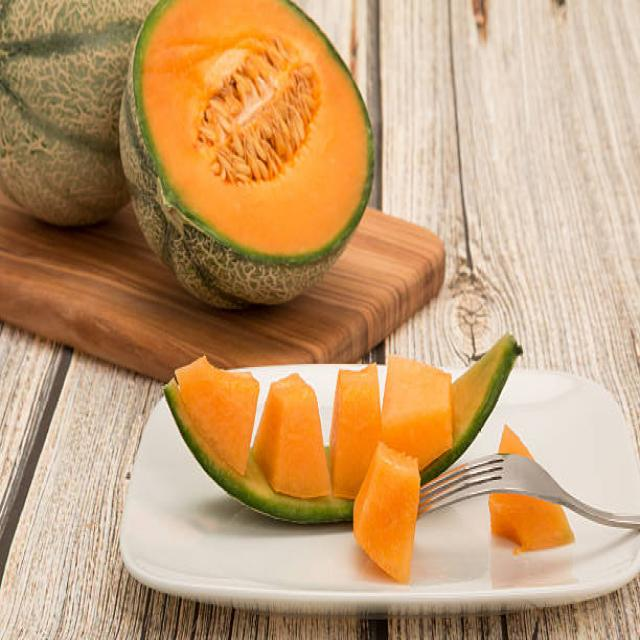melon: (122, 0, 377, 304), (0, 0, 123, 238)
